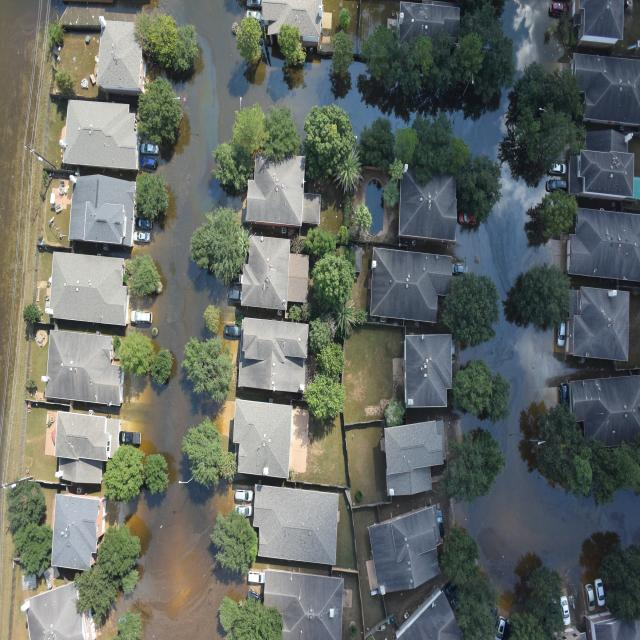fire: (121, 0, 404, 478), (416, 162, 640, 590), (136, 478, 220, 635), (451, 89, 509, 158), (507, 0, 555, 59)
